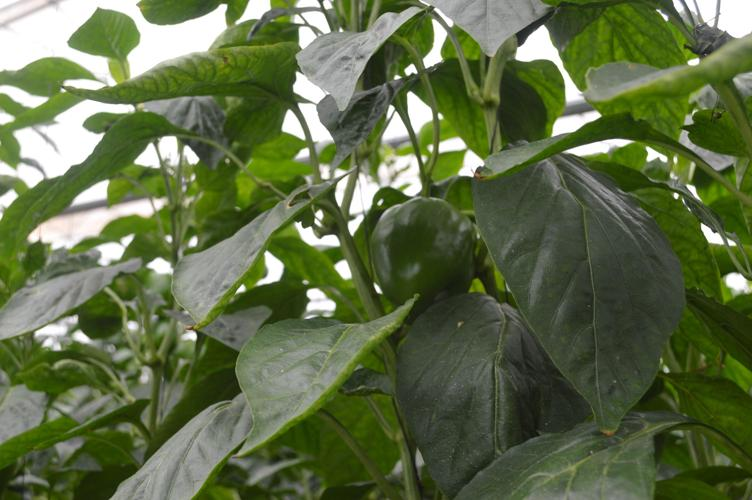BellPepper: (360, 196, 477, 307)
